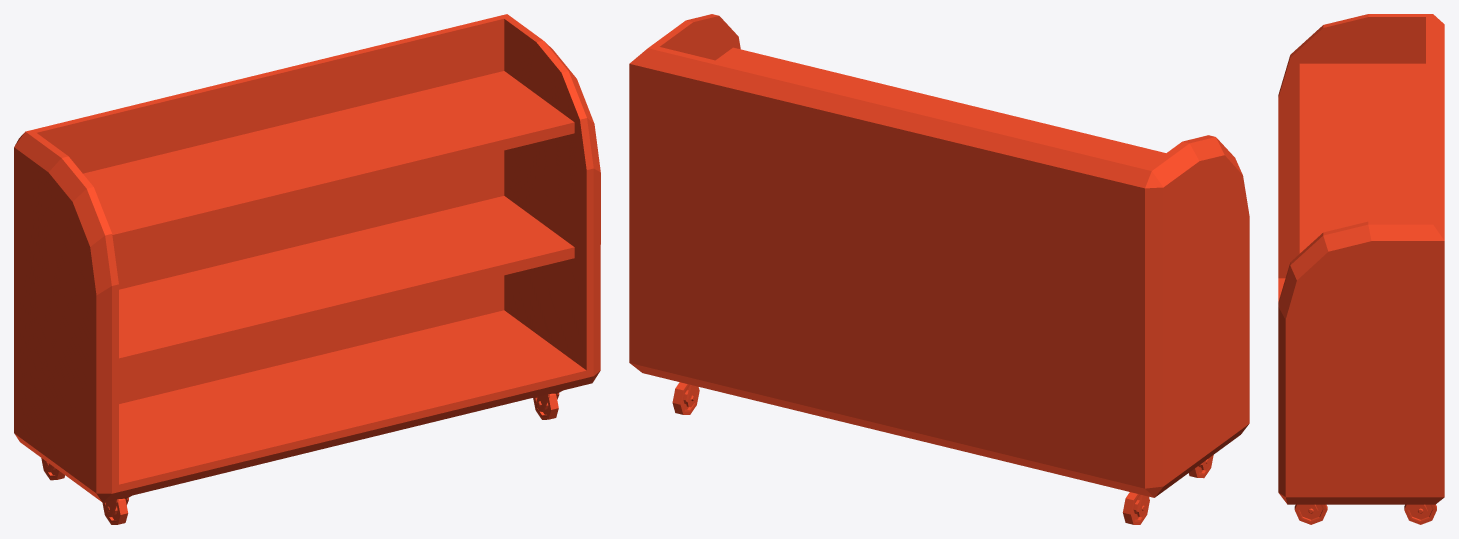
The model's file is SM_Shelf_A_City.fbx.
3 views of the same model, side by side, from view 1: azimuth 30°, elevation 25°; view 2: azimuth 150°, elevation 25°; view 3: azimuth 270°, elevation 25° (orthographic). The views are drawn at different scales.
Parts seen in each view (by area): view 1: SM_Shelf_A_City; view 2: SM_Shelf_A_City; view 3: SM_Shelf_A_City.
Boxes of the visible parts, left/top/right/bottom form: SM_Shelf_A_City: left=14, top=14, right=600, bottom=524; SM_Shelf_A_City: left=629, top=14, right=1249, bottom=524; SM_Shelf_A_City: left=1278, top=14, right=1444, bottom=524.
Size of the model in its own units: 1.57 by 1.03 by 0.5014.
